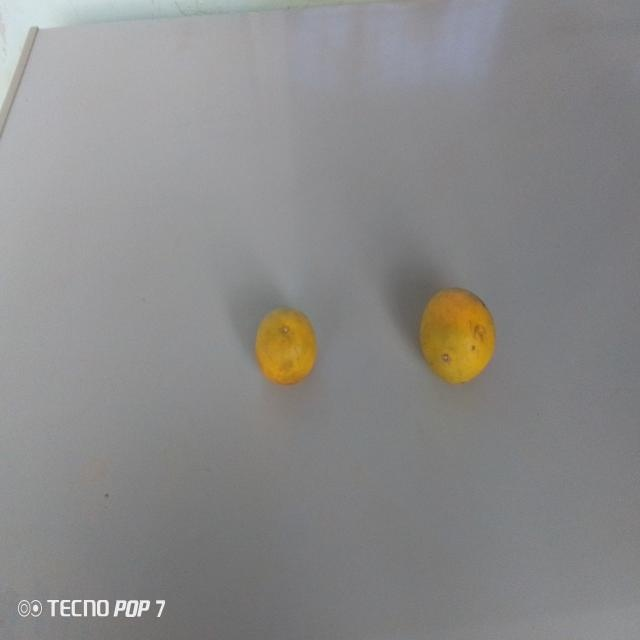agrume: (409, 278, 502, 391), (249, 302, 326, 403)
